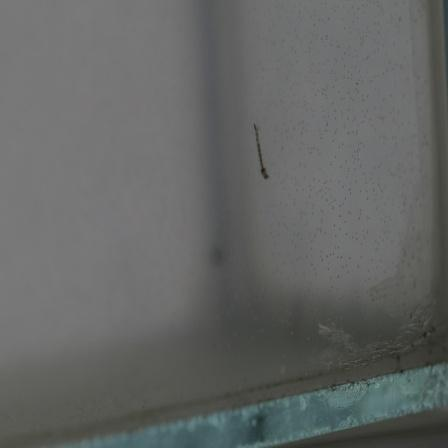Jentik-Nyamuk: (248, 119, 275, 186)
